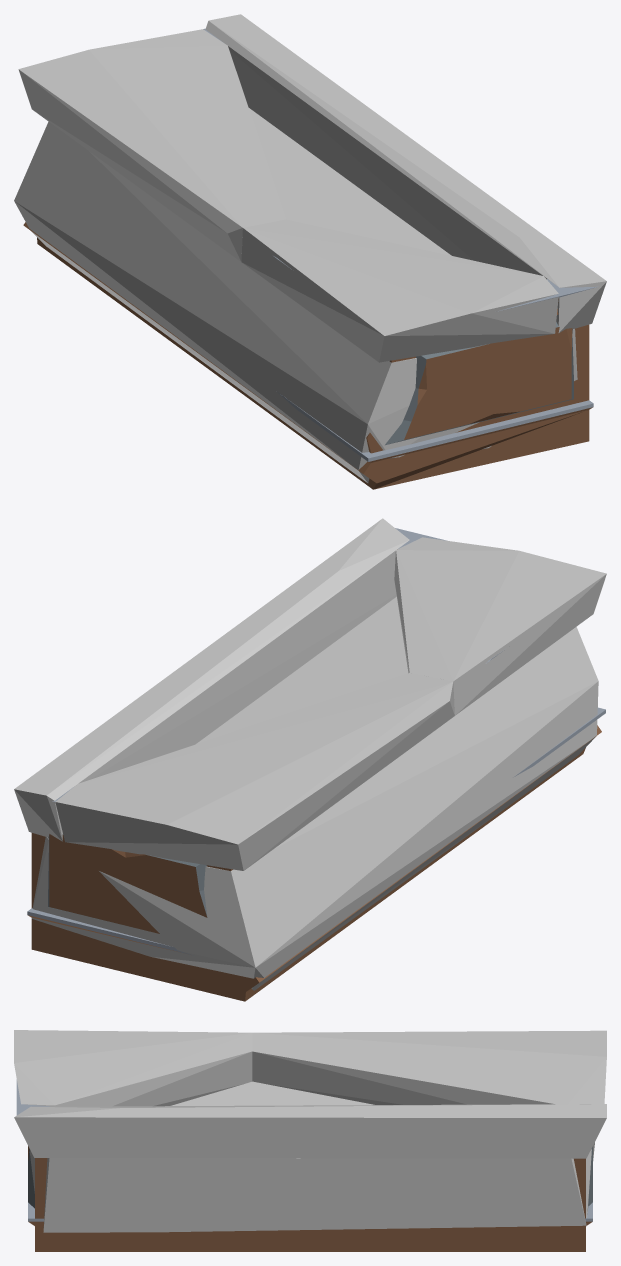
Rendered from SM_Prop_Flowerbed_01.fbx.
The picture shows the model from 3 angles, top to bottom: view 1: azimuth 30°, elevation 25°; view 2: azimuth 150°, elevation 25°; view 3: azimuth 270°, elevation 25°; orthographic projection. The views are drawn at different scales.
Parts seen in each view (by area): view 1: SM_Prop_Flowerbed_01_ConvexHulls, SM_Prop_Flowerbed_01; view 2: SM_Prop_Flowerbed_01_ConvexHulls, SM_Prop_Flowerbed_01; view 3: SM_Prop_Flowerbed_01_ConvexHulls, SM_Prop_Flowerbed_01.
Part boxes in pixels (<box>): SM_Prop_Flowerbed_01_ConvexHulls: <box>14,14,606,483</box>; SM_Prop_Flowerbed_01: <box>23,28,598,489</box>; SM_Prop_Flowerbed_01_ConvexHulls: <box>14,518,606,990</box>; SM_Prop_Flowerbed_01: <box>27,528,605,1001</box>; SM_Prop_Flowerbed_01_ConvexHulls: <box>14,1030,606,1232</box>; SM_Prop_Flowerbed_01: <box>16,1079,592,1251</box>.
Bounding box in the file's own units: 83.4 × 227 × 57.83.
Materials: 2 (1 with a texture image).
